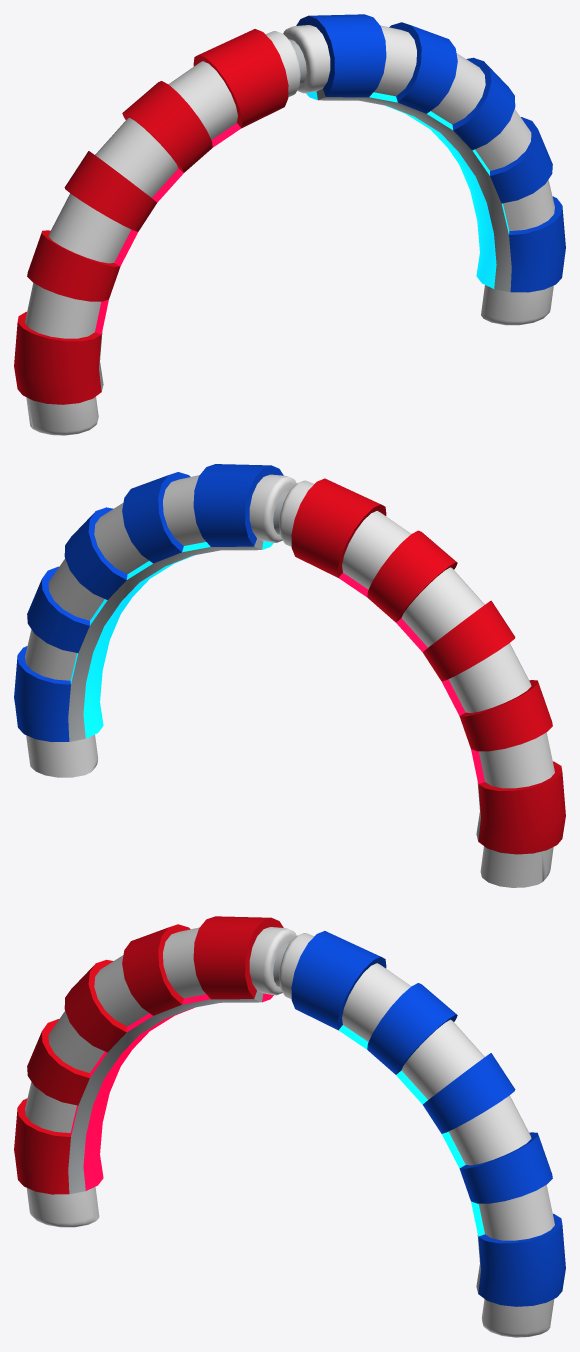
The model's file is Portal.fbx.
The picture shows the model from 3 angles, top to bottom: view 1: azimuth 30°, elevation 25°; view 2: azimuth 150°, elevation 25°; view 3: azimuth 330°, elevation 25°; orthographic projection.
Visible parts, largest first — view 1: Torus.005; view 2: Torus.005; view 3: Torus.005.
Part boxes in pixels (x1,y1,x2,y2): Torus.005: [14, 14, 565, 435]; Torus.005: [14, 464, 565, 887]; Torus.005: [14, 916, 565, 1337].
Size of the model in its own units: 3.6 by 2.18 by 0.5.
